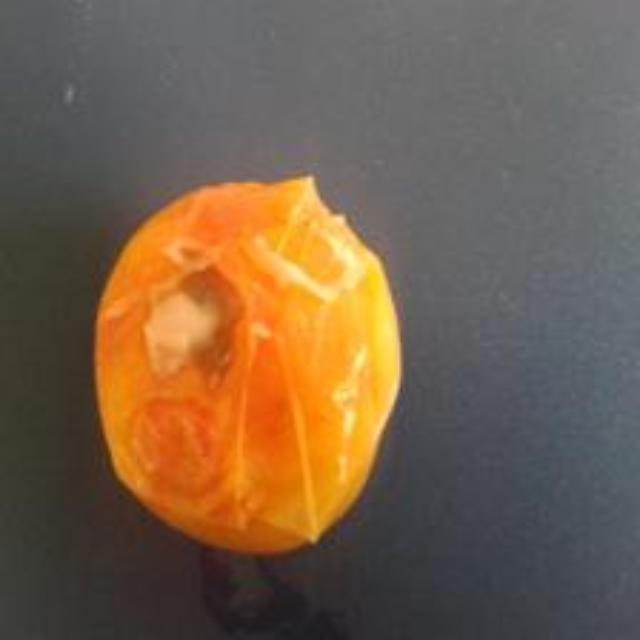defect: (88, 170, 408, 567)
